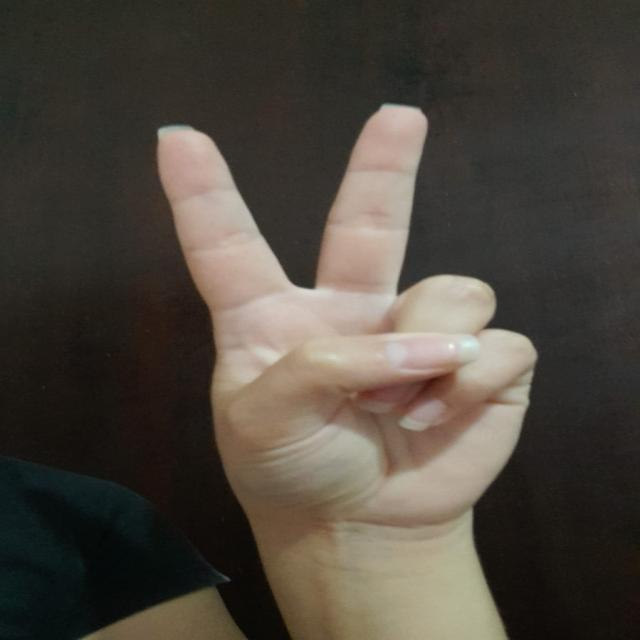V: (124, 108, 552, 540)
